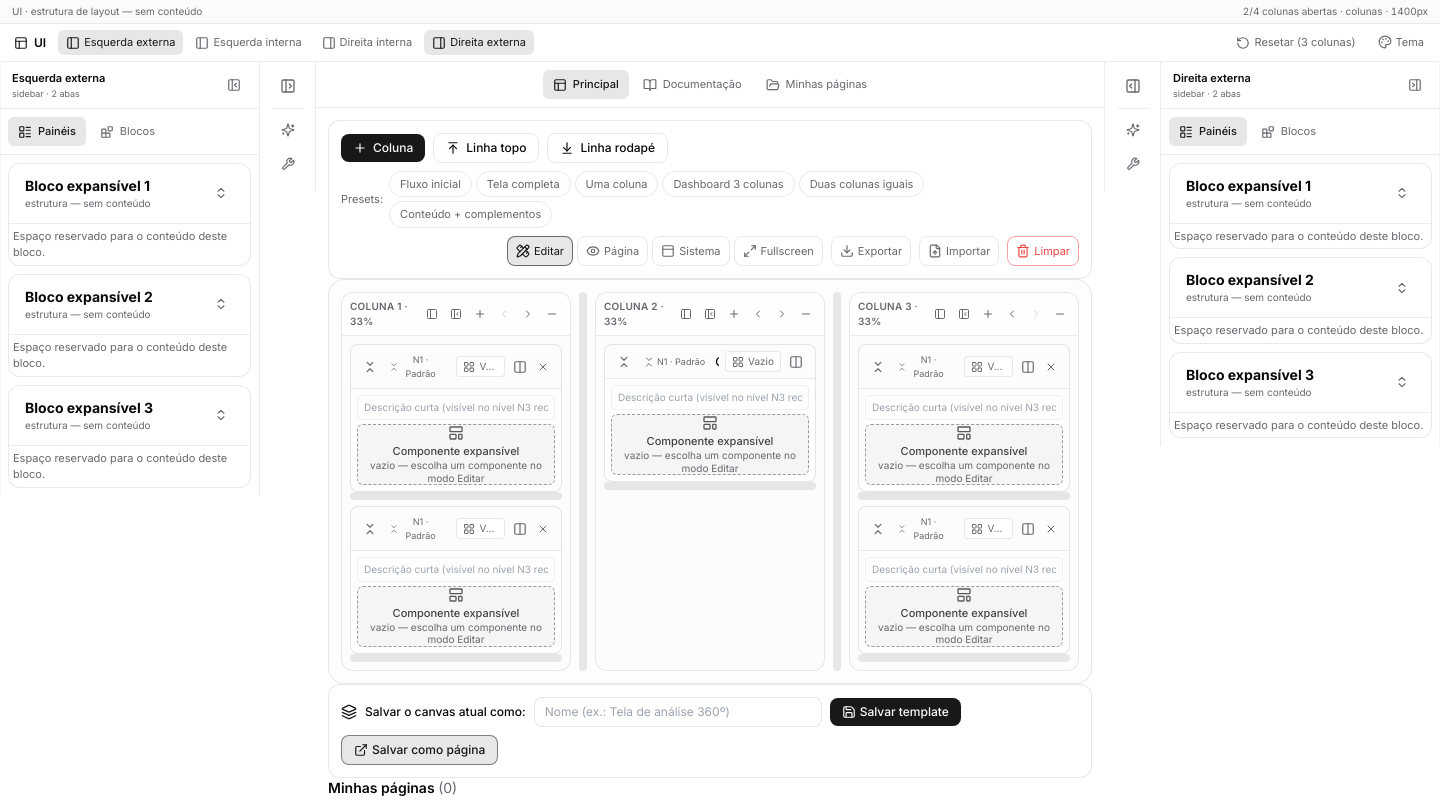
Test: UiShell — estrutura (modo colunas) › padrão = 3 colunas: externas abertas com abas, internas em rail funcional
// internas em rail: ícones das abas com overlay por clique (sem abrir sidebar)
Click the button named "Abrir Contexto da coluna Esquerda interna em overlay": (288,130) x1=272 y1=115 x2=302 y2=145
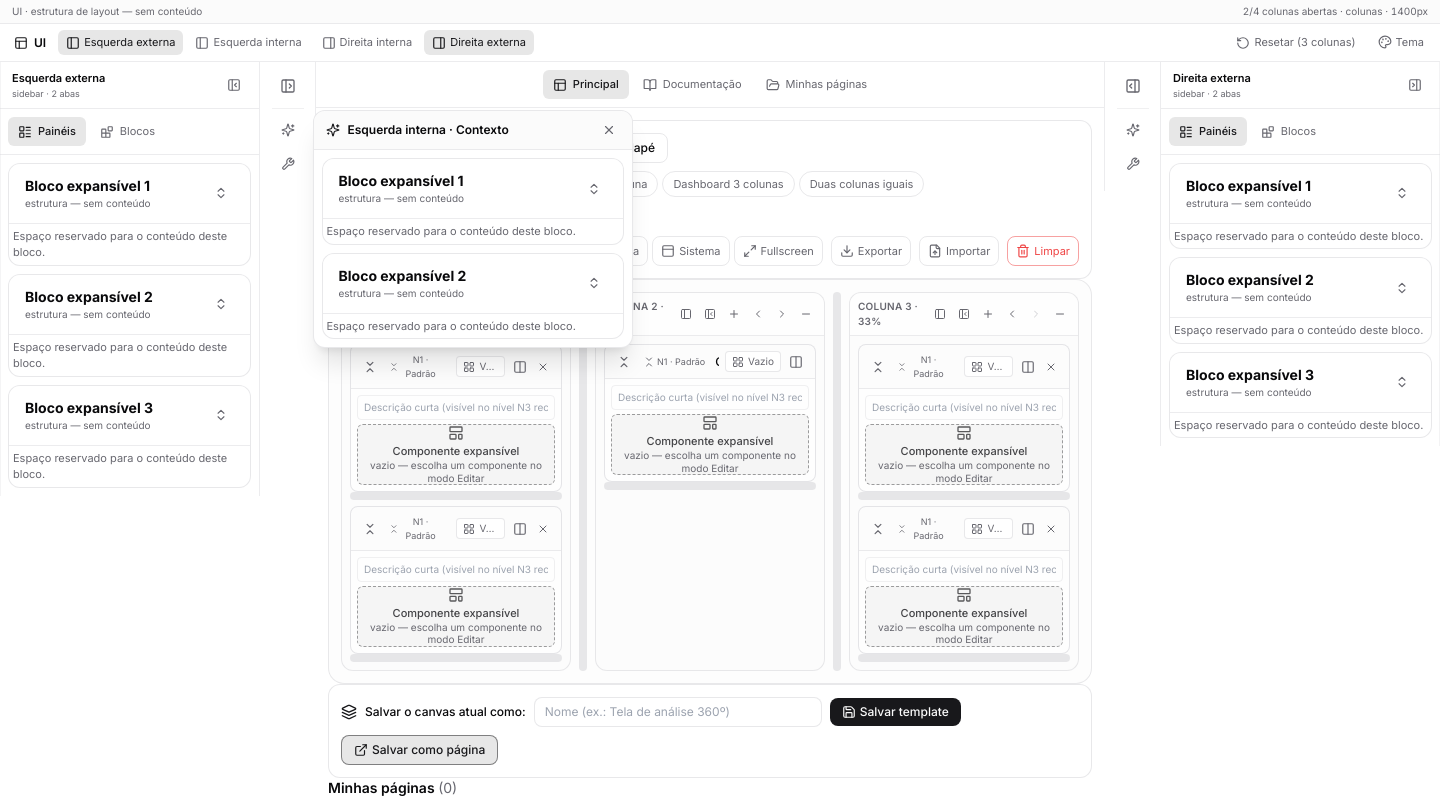
Expected: the button named "Expandir coluna Esquerda interna" is shown, x1=272 y1=70 x2=304 y2=102
Now the dialog is shown, box x1=312 y1=110 x2=632 y2=348
